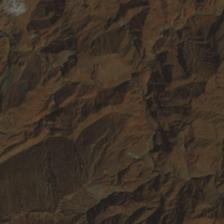landslides: (51, 84, 67, 98), (93, 187, 106, 198), (173, 28, 184, 41), (152, 126, 165, 134)
